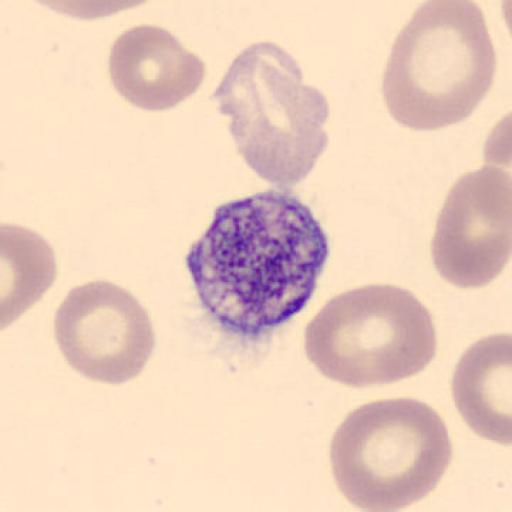Platelet: (182, 184, 334, 339)
RBC: (211, 38, 331, 190), (382, 1, 496, 133), (303, 282, 441, 389), (328, 395, 454, 512), (52, 277, 156, 387), (429, 165, 511, 291), (106, 23, 208, 114), (449, 331, 512, 448), (2, 222, 58, 332), (480, 108, 512, 211), (14, 0, 165, 21), (52, 0, 168, 20), (499, 0, 512, 42)
